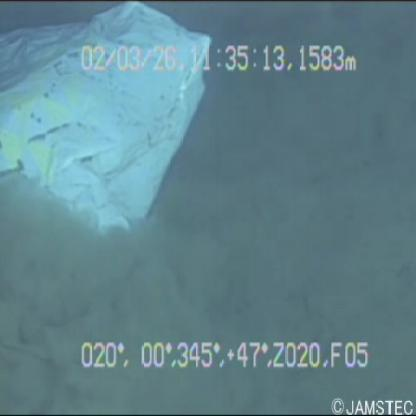Rác: (1, 1, 214, 243)
